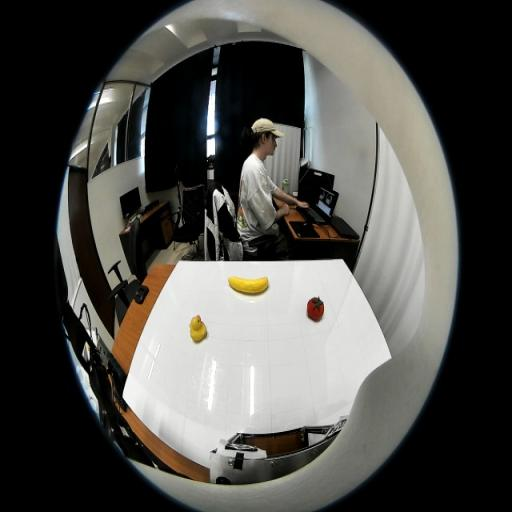Banana: (228, 276, 269, 294)
Duck: (189, 315, 206, 342)
Tomato: (307, 298, 324, 320)
